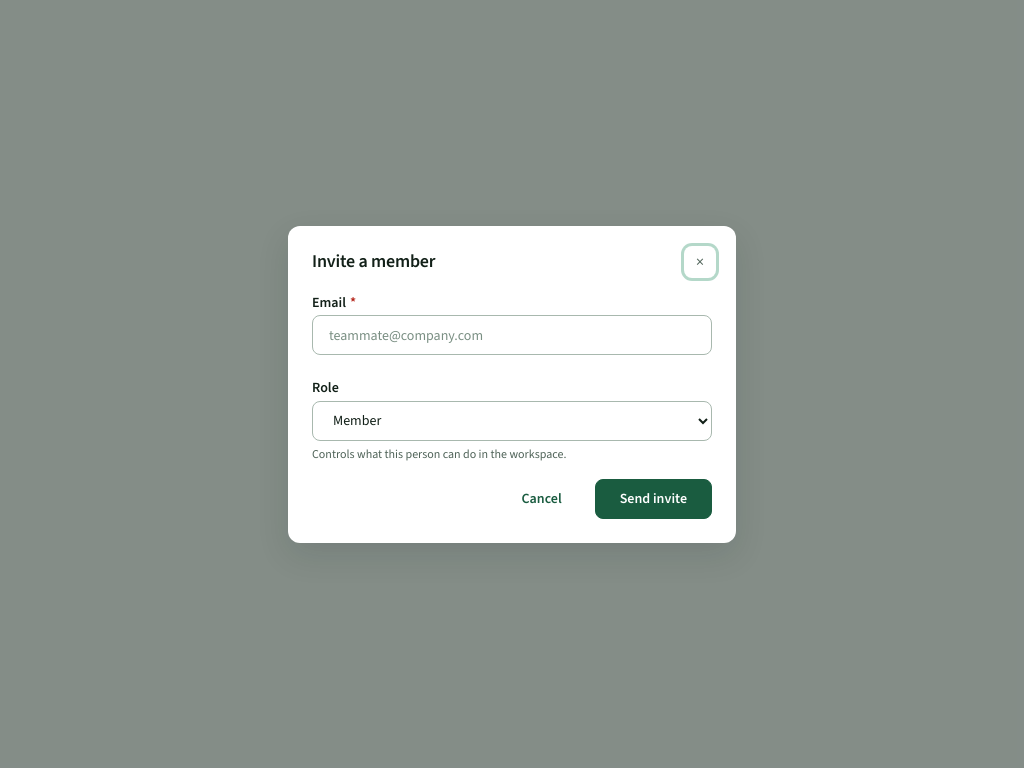
Test: InviteMemberDialog › validates the email before submitting
Click the button "Send invite".
click(653, 498)  # box [595, 478, 712, 518]
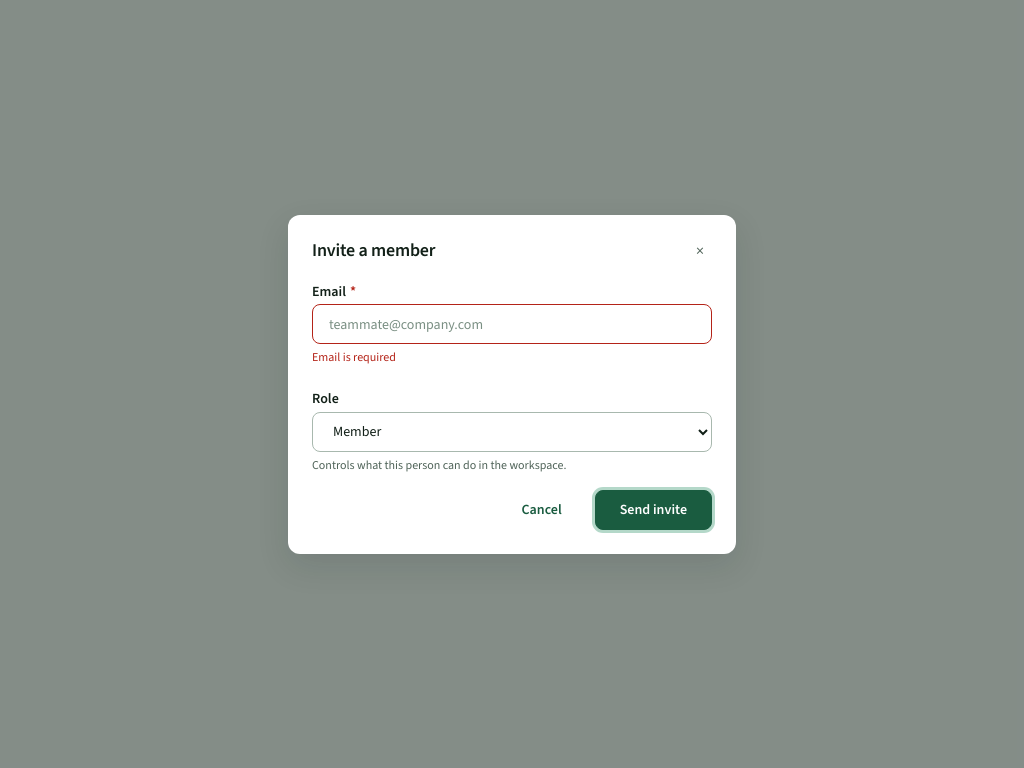
Expected: the text "Email is required" is shown, [312, 349, 396, 365]
Type "not-an-email" into the field labelled "Email".
click(512, 324); type("not-an-email")  # box [312, 304, 712, 344]
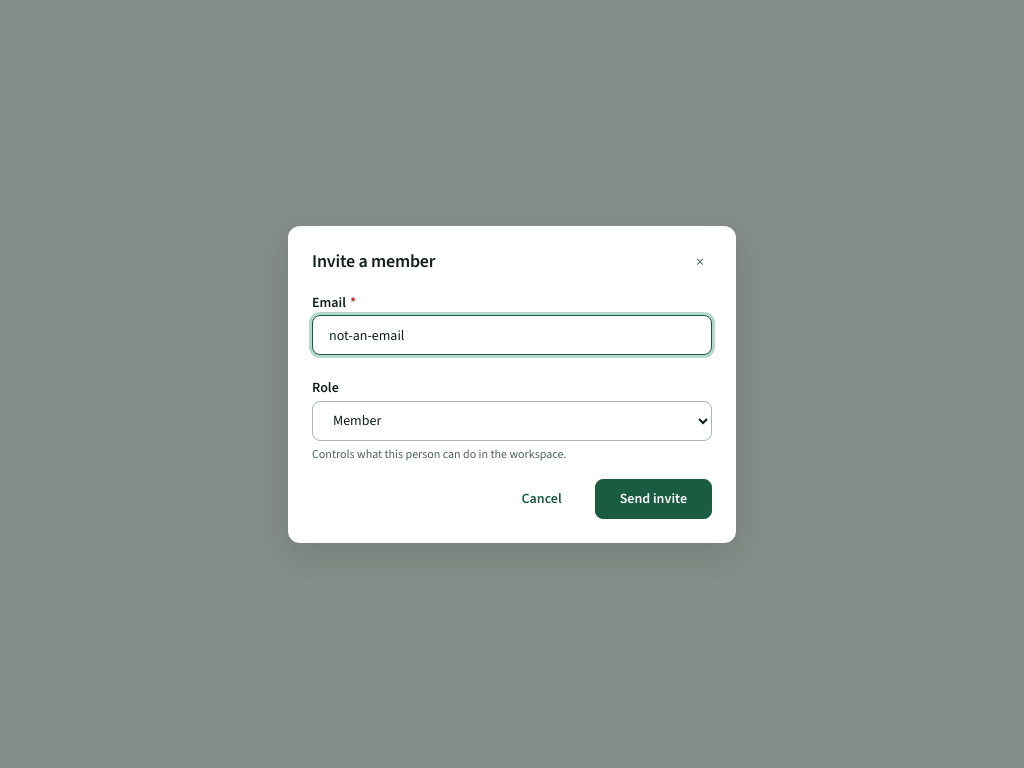
Click the button "Send invite".
click(653, 498)  # box [595, 478, 712, 518]
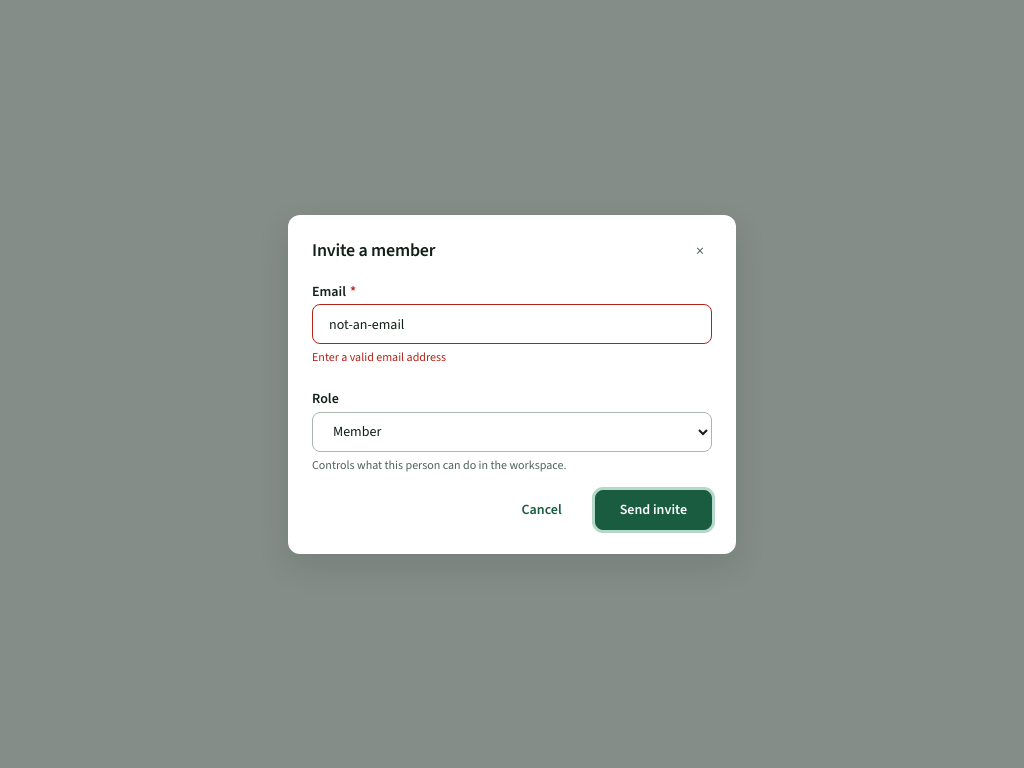
Expected: the text "Enter a valid email address" is shown, [312, 349, 446, 365]
